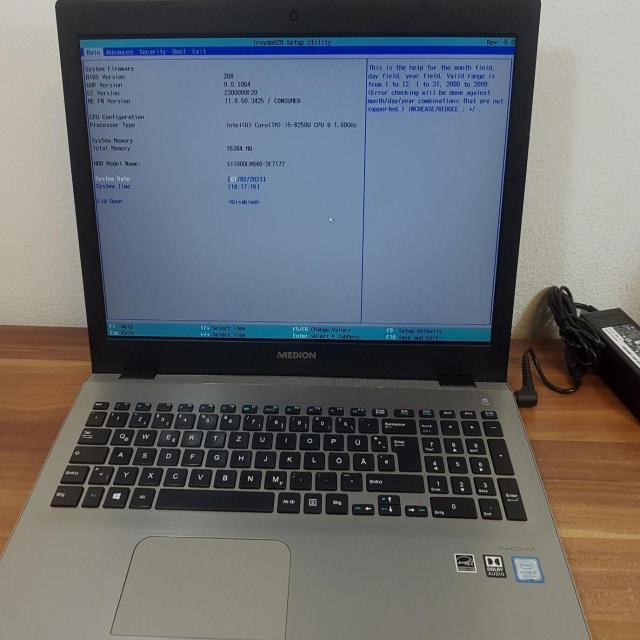0: (310, 414, 331, 430)
1: (103, 408, 127, 424)
2: (127, 410, 149, 425)
3: (150, 410, 172, 426)
4: (173, 410, 194, 426)
5: (195, 411, 216, 427)
6: (218, 412, 239, 427)
7: (241, 413, 262, 429)
8: (264, 413, 285, 429)
9: (287, 413, 308, 429)
a: (106, 443, 132, 462)
accent: (357, 416, 377, 432)
ae: (351, 450, 374, 469)
alt-left: (127, 484, 153, 507)
altgr-right: (275, 489, 300, 512)
b: (212, 465, 235, 486)
c: (161, 464, 186, 485)
caret: (84, 408, 104, 423)
comma: (288, 469, 311, 488)
d: (155, 445, 179, 464)
del: (380, 416, 416, 432)
e: (155, 426, 178, 445)
enter: (389, 432, 420, 469)
f: (180, 445, 203, 464)
g: (204, 446, 227, 465)
h: (229, 447, 250, 466)
hash: (376, 451, 394, 469)
i: (274, 430, 295, 447)
j: (253, 448, 274, 466)
k: (277, 449, 300, 468)
keyboard: (42, 392, 532, 524)
l: (301, 449, 324, 467)
less: (87, 463, 113, 482)
m: (262, 467, 286, 488)
minus: (339, 470, 362, 489)
n: (237, 466, 260, 487)
o: (298, 431, 319, 449)
oe: (326, 449, 348, 468)
p: (322, 431, 343, 448)
plus: (369, 432, 386, 450)
point: (313, 469, 336, 488)
q: (108, 425, 133, 444)
r: (179, 427, 201, 445)
s: (131, 445, 155, 463)
shift-left: (58, 461, 88, 482)
shift-lock: (69, 443, 108, 461)
shift-right: (364, 471, 423, 490)
space: (154, 487, 274, 514)
ss: (334, 415, 355, 431)
strg-left: (48, 483, 82, 505)
strg-right: (324, 490, 348, 513)
t: (203, 427, 224, 445)
tab: (75, 424, 110, 442)
u: (250, 429, 272, 447)
ue: (345, 431, 367, 449)
v: (187, 466, 211, 485)
w: (133, 426, 156, 444)
x: (137, 464, 161, 484)
y: (112, 463, 137, 483)
z: (227, 427, 249, 446)
